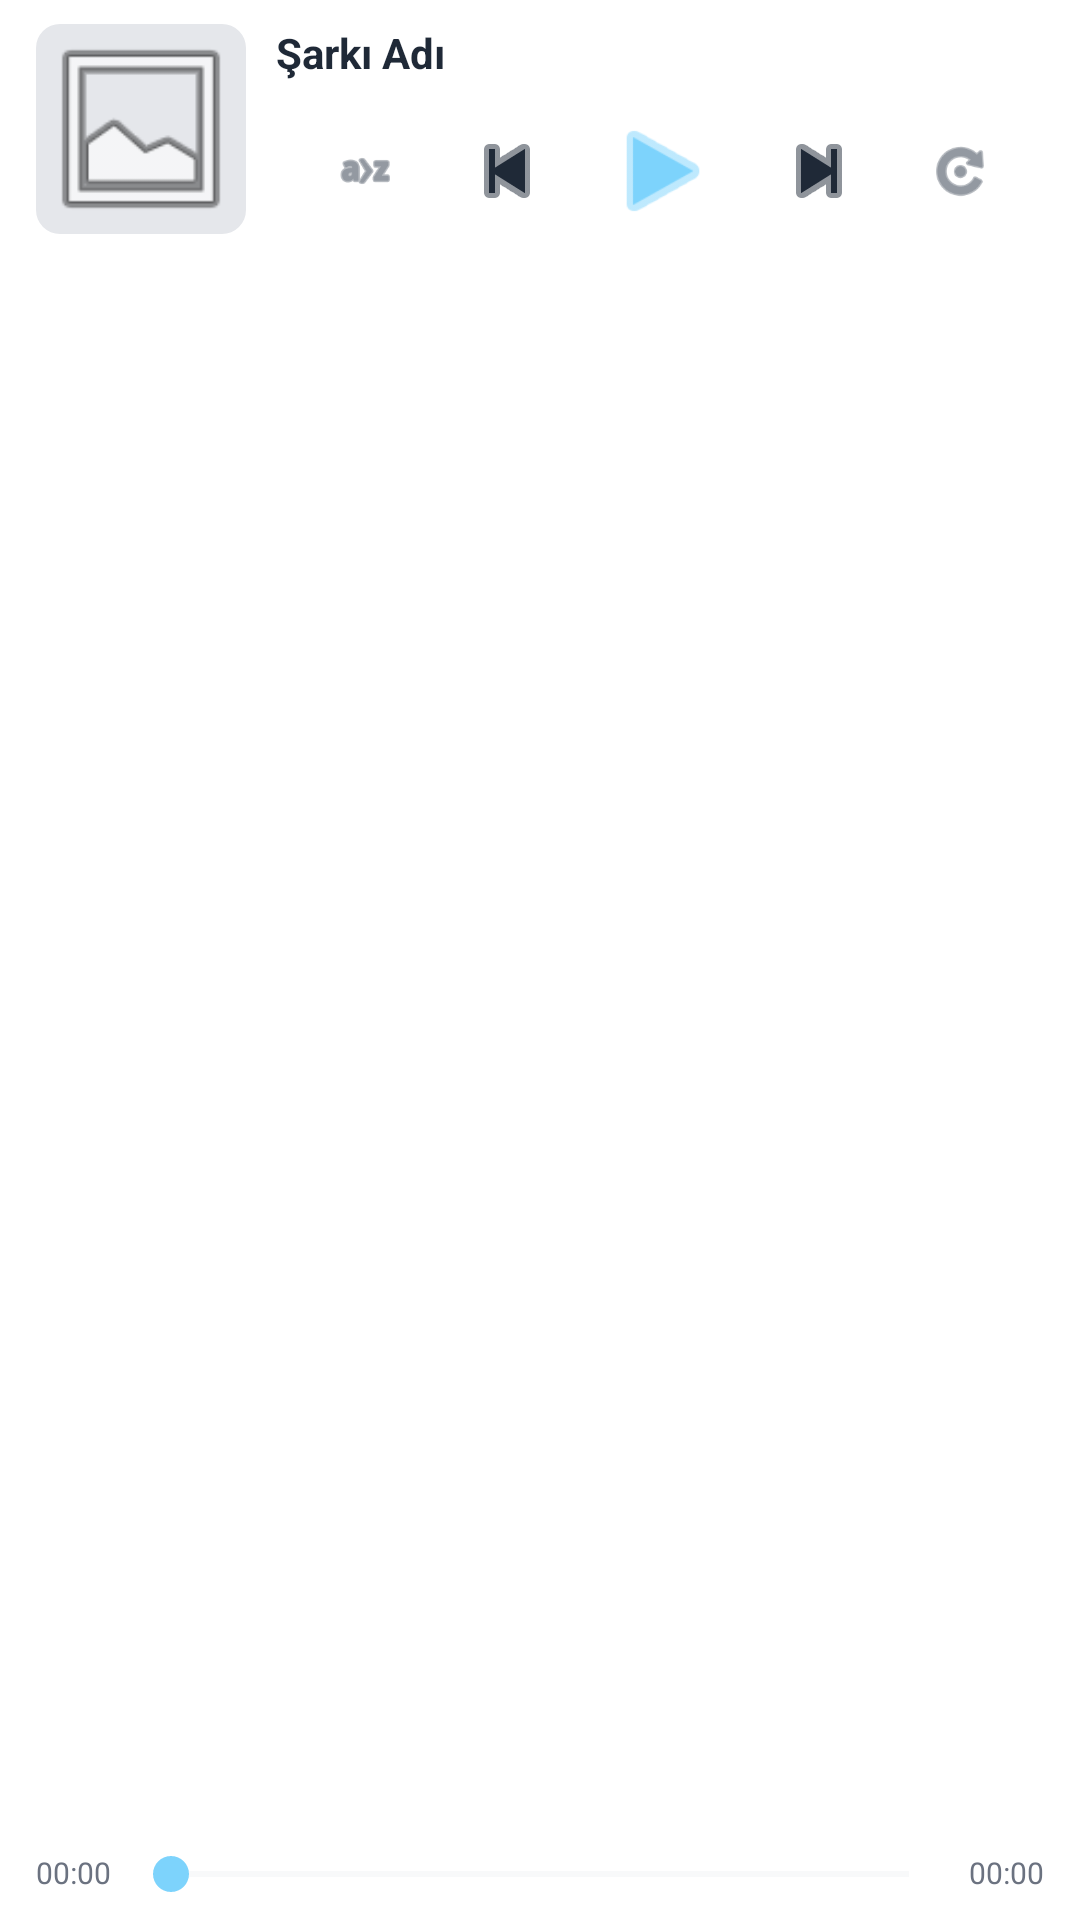

Screen size 1080x1920. Icon name, then its center in pixels as point (x, y):
gallery: point (141, 129)
next: point (819, 171)
play: point (663, 171)
previous: point (507, 171)
rotate: point (960, 171)
sort alphabetically: point (365, 171)
